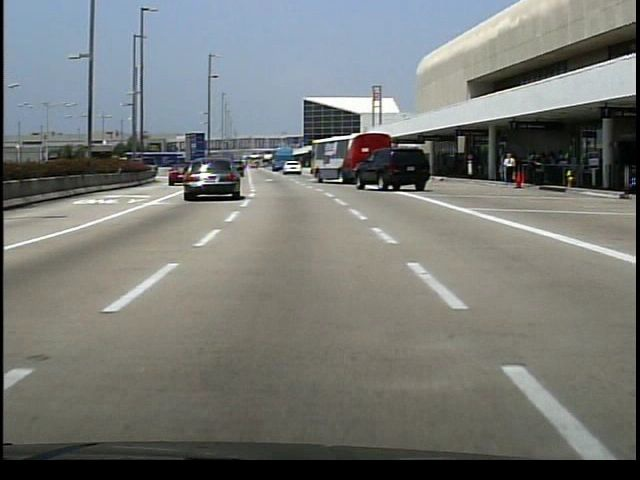person: (500, 152, 516, 187)
